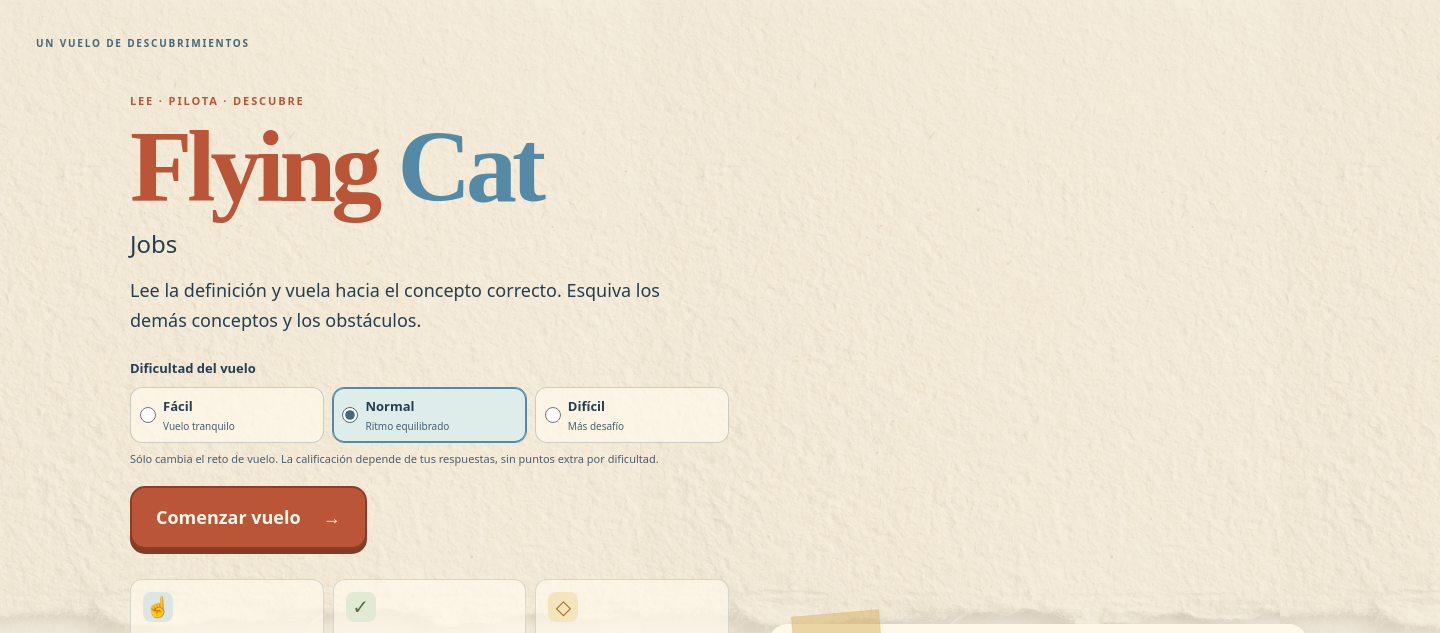
Flying Cat cover and pilot illustration › defaults to normal difficulty and permits a local selection without starting the flight
Expected: the radio button labelled "Normal" is checked, [342, 407, 358, 423]
Click the radio button labelled "Fácil".
click(148, 415)  # box [140, 407, 156, 423]
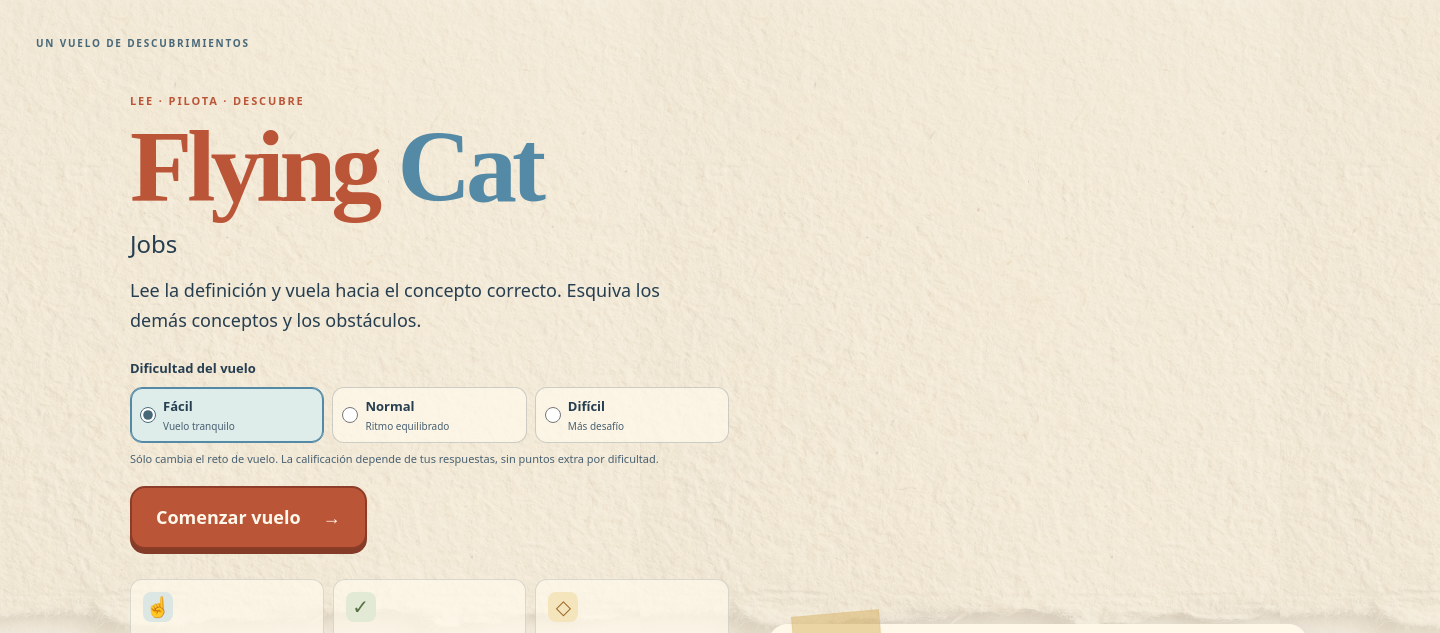
Expected: the text "sin puntos extra por dificultad" is shown, [130, 451, 659, 466]
Result: the radio button labelled "Fácil" is checked at [140, 407, 156, 423]
Result: the radio button labelled "Normal" is not checked at [342, 407, 358, 423]
